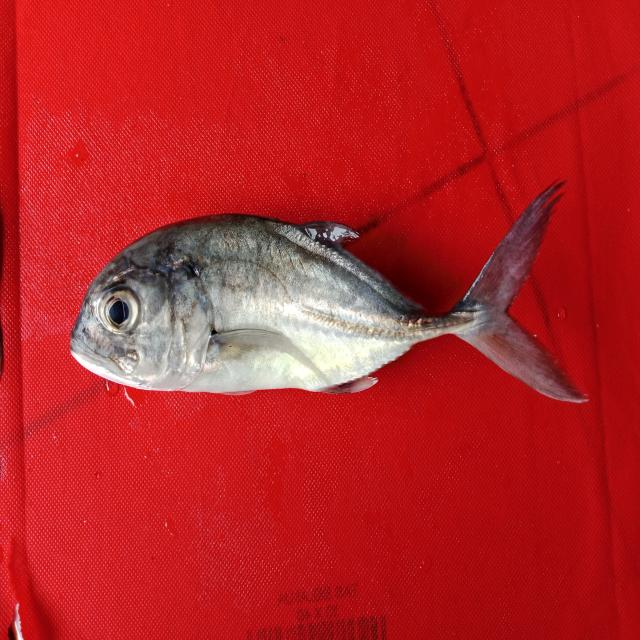ikan: (59, 172, 606, 436)
